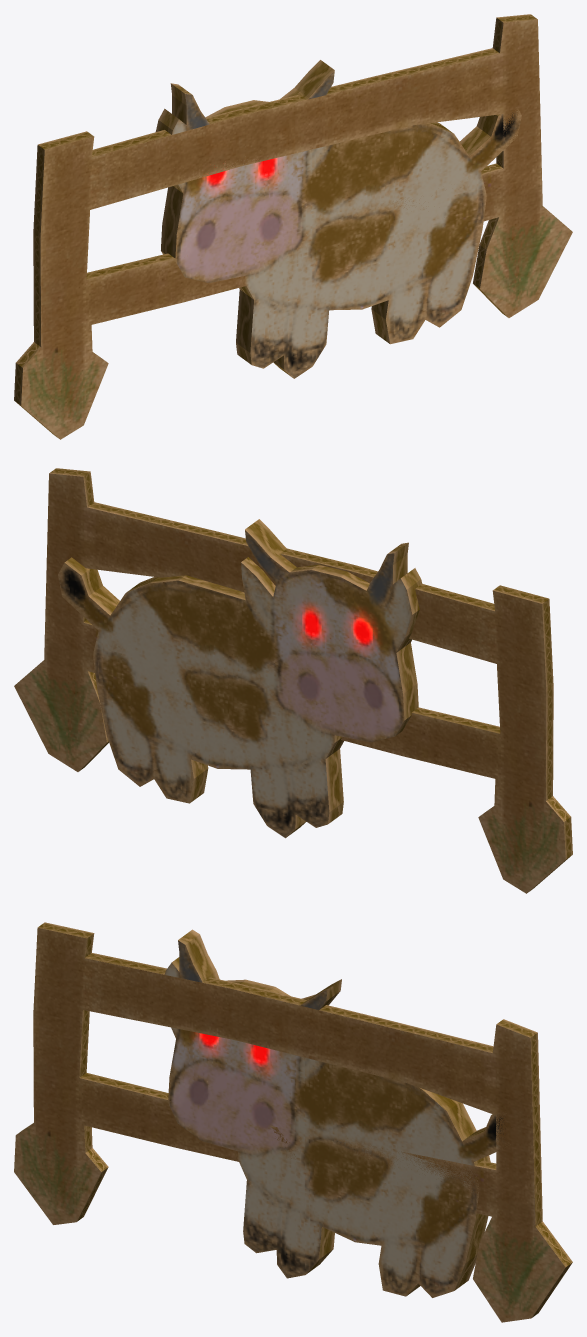
File: Weide.fbx
3 renders of one model, top to bottom at view 1: azimuth 30°, elevation 25°; view 2: azimuth 150°, elevation 25°; view 3: azimuth 330°, elevation 25°, orthographic.
Parts seen in each view (by area): view 1: Zaun, Kuh; view 2: Kuh, Zaun; view 3: Zaun, Kuh.
Part boxes in pixels (<box>): Zaun: <box>14,14,572,439</box>; Kuh: <box>155,60,521,378</box>; Kuh: <box>58,519,422,838</box>; Zaun: <box>14,468,572,893</box>; Zaun: <box>14,922,572,1322</box>; Kuh: <box>164,929,510,1297</box>.
Bounding box in the file's own units: 439 × 240 × 20.
